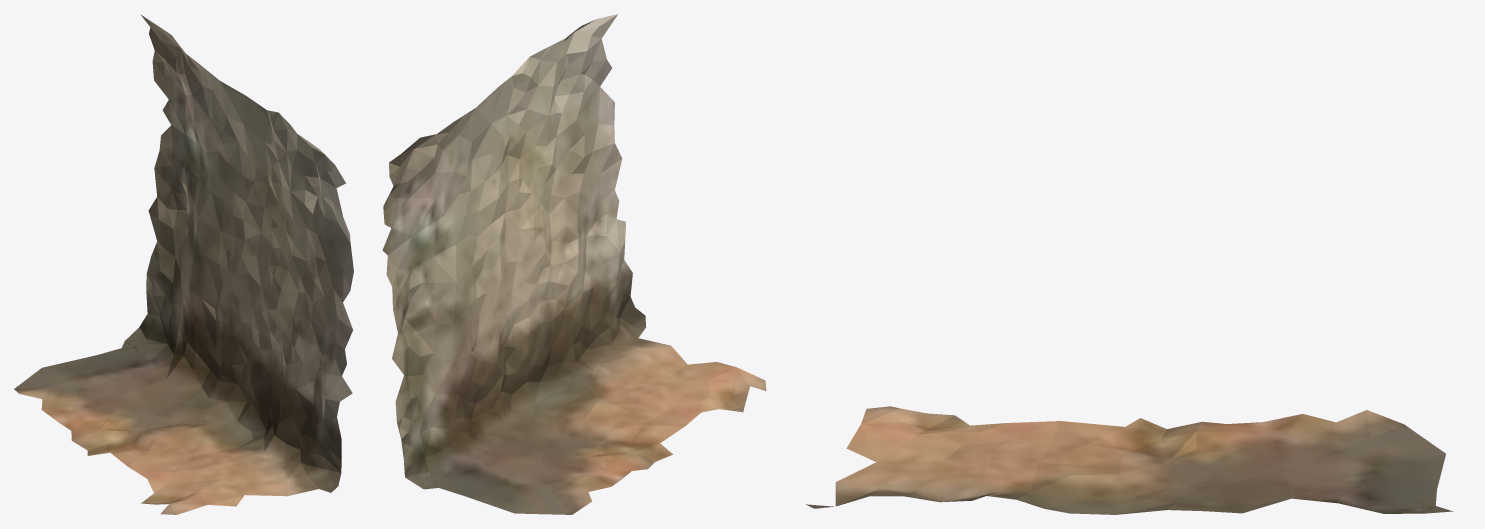
The model's file is basement_3_mirror_1-transformed.glb.
3 renders of one model, left to right at view 1: azimuth 30°, elevation 25°; view 2: azimuth 150°, elevation 25°; view 3: azimuth 270°, elevation 25°, orthographic. The views are drawn at different scales.
Visible parts, largest first — view 1: mirror_room.002; view 2: mirror_room.002; view 3: mirror_room.002.
Boxes of the visible parts, left/top/right/bottom form: mirror_room.002: left=14, top=14, right=353, bottom=514; mirror_room.002: left=382, top=14, right=766, bottom=514; mirror_room.002: left=806, top=406, right=1453, bottom=514.
Bounding box in the file's own units: 1.22 × 2.07 × 2.47.
1 material, 1 textured.
